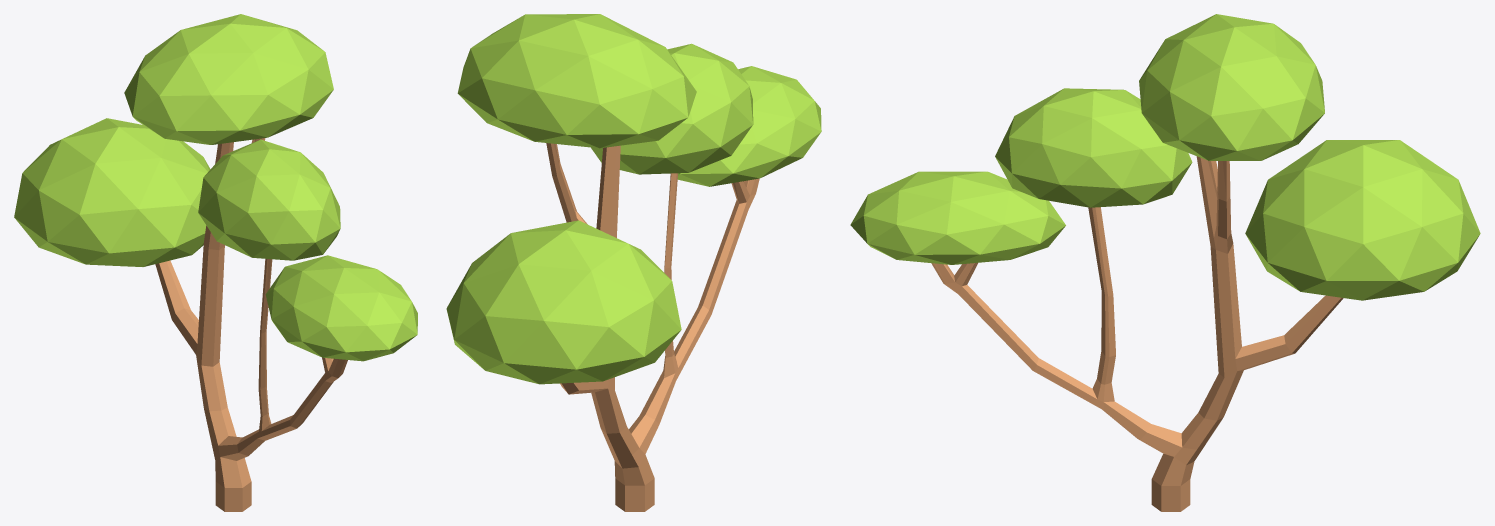
File: tree_broad_4.glb
3 views of the same model, side by side, from view 1: azimuth 30°, elevation 25°; view 2: azimuth 150°, elevation 25°; view 3: azimuth 270°, elevation 25° (orthographic). The views are drawn at different scales.
Parts seen in each view (by area): view 1: Cylinder.002; view 2: Cylinder.002; view 3: Cylinder.002.
Part boxes in pixels (bbox=[...]): Cylinder.002: bbox=[14, 14, 417, 511]; Cylinder.002: bbox=[446, 14, 821, 511]; Cylinder.002: bbox=[850, 14, 1480, 511].
Bounding box in the file's own units: 2.48 × 4.5 × 5.23.
